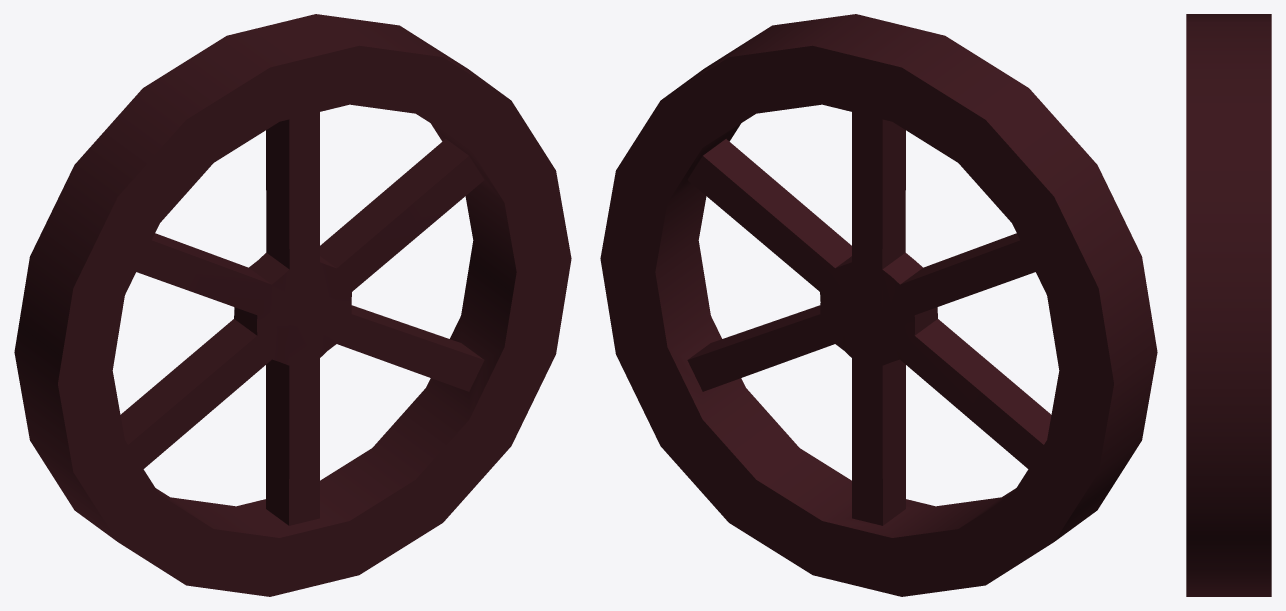
File: Ruota.fbx
3 renders of one model, left to right at view 1: azimuth 30°, elevation 25°; view 2: azimuth 150°, elevation 25°; view 3: azimuth 270°, elevation 25°, orthographic.
Parts seen in each view (by area): view 1: Cylinder.013; view 2: Cylinder.013; view 3: Cylinder.013.
Part boxes in pixels (box(x1,y1,x2,y2)): Cylinder.013: box(14, 14, 571, 596); Cylinder.013: box(600, 14, 1157, 596); Cylinder.013: box(1186, 14, 1271, 596).
Size of the model in its own units: 200 by 197 by 29.26.
